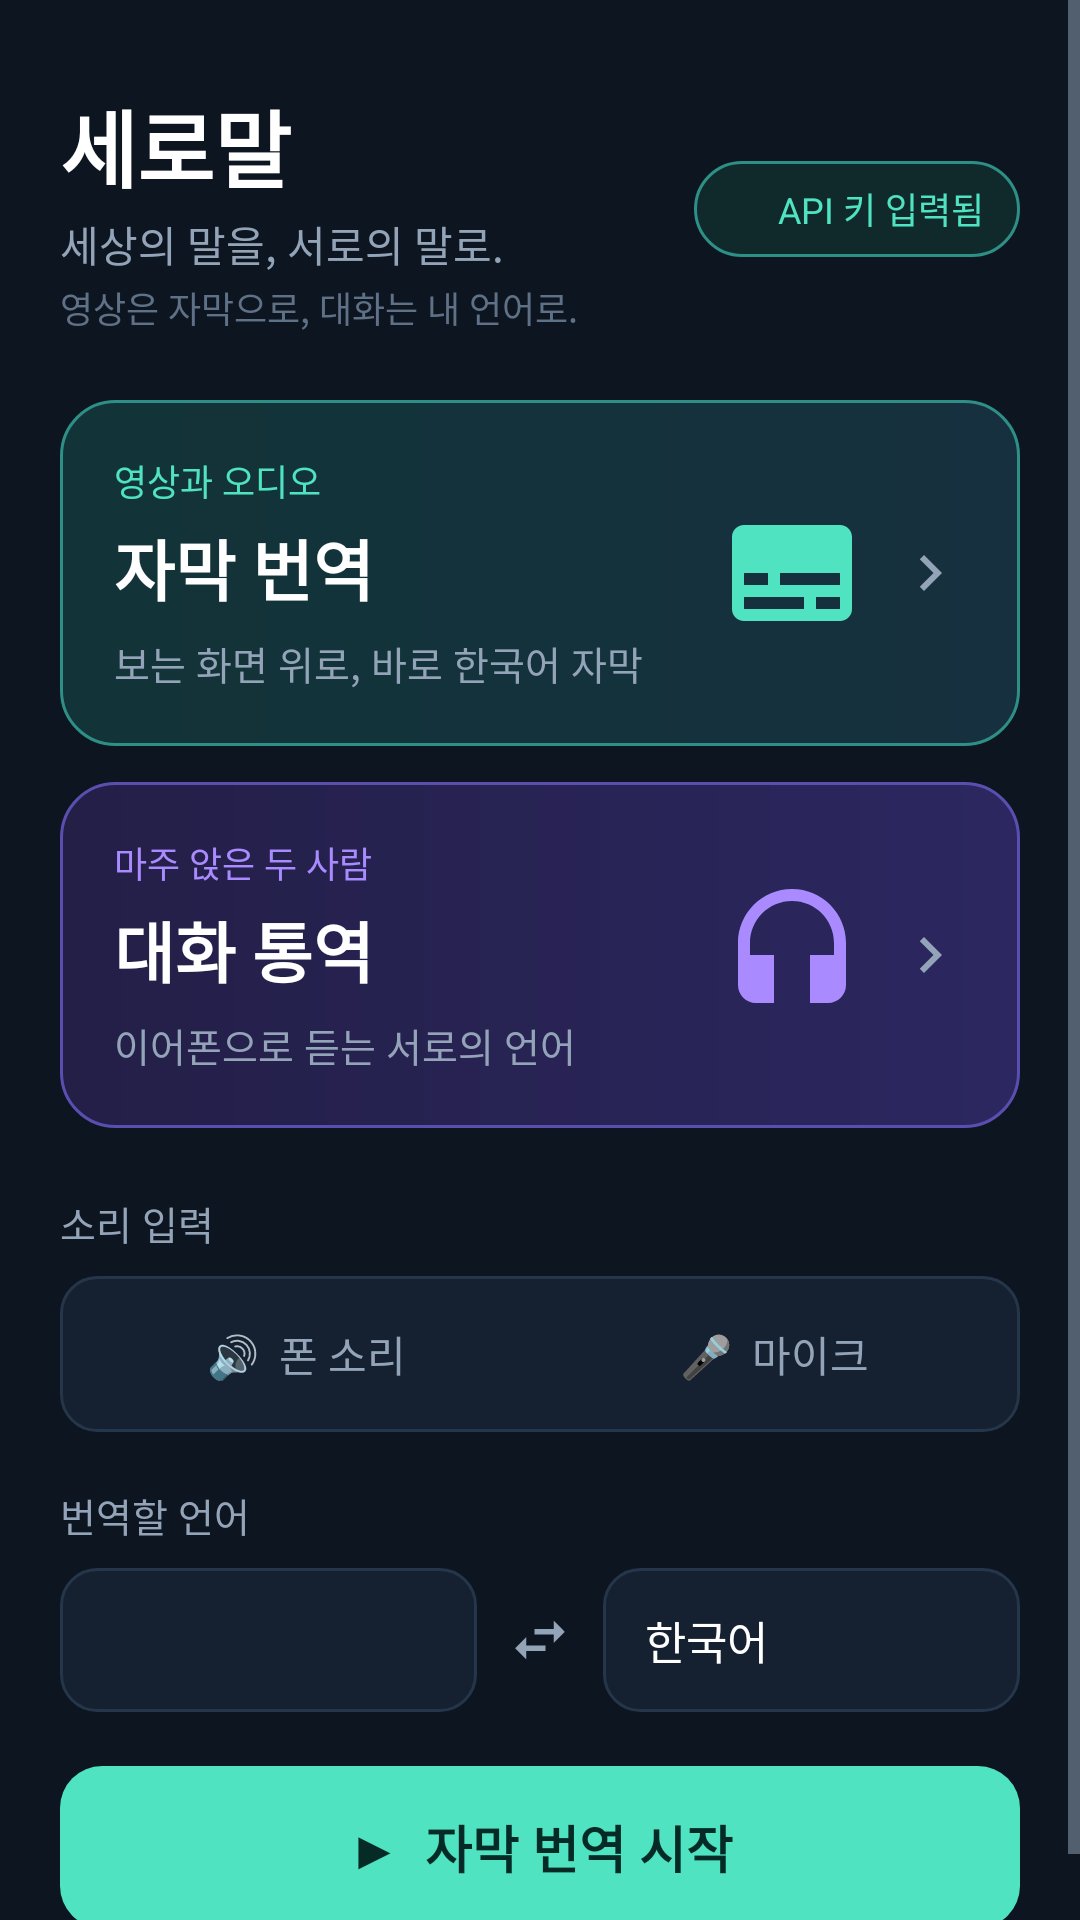

Locate icon controls on the screen. Image size 1080px x 1920px, boxes as (x1, y1, x2, y2).
caption: (732, 525, 852, 621)
chevron: (920, 555, 942, 591), (920, 937, 942, 973)
headset: (738, 889, 846, 1003)
swap: (515, 1621, 565, 1659)
